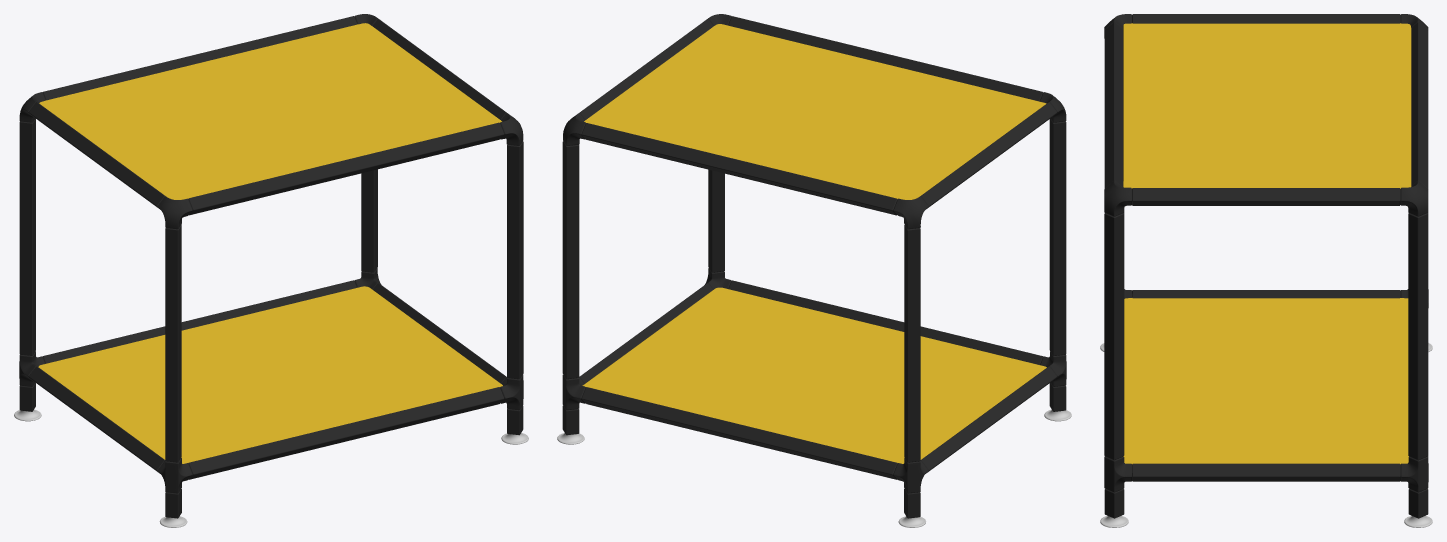
3 renders of one model, left to right at view 1: azimuth 30°, elevation 25°; view 2: azimuth 150°, elevation 25°; view 3: azimuth 270°, elevation 25°, orthographic. The views are drawn at different scales.
Visible parts, largest first — view 1: 523x374x374; view 2: 523x374x374; view 3: 523x374x374.
Boxes of the visible parts, left/top/right/bottom form: 523x374x374: left=14, top=14, right=528, bottom=527; 523x374x374: left=557, top=14, right=1071, bottom=527; 523x374x374: left=1100, top=14, right=1432, bottom=527.
Bounding box in the file's own units: 0.6129 × 0.5132 × 0.4632.
